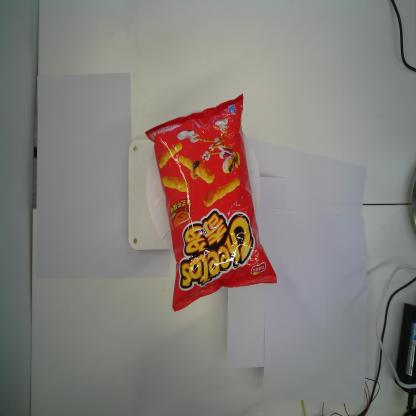Puffed Food: (145, 92, 277, 313)
